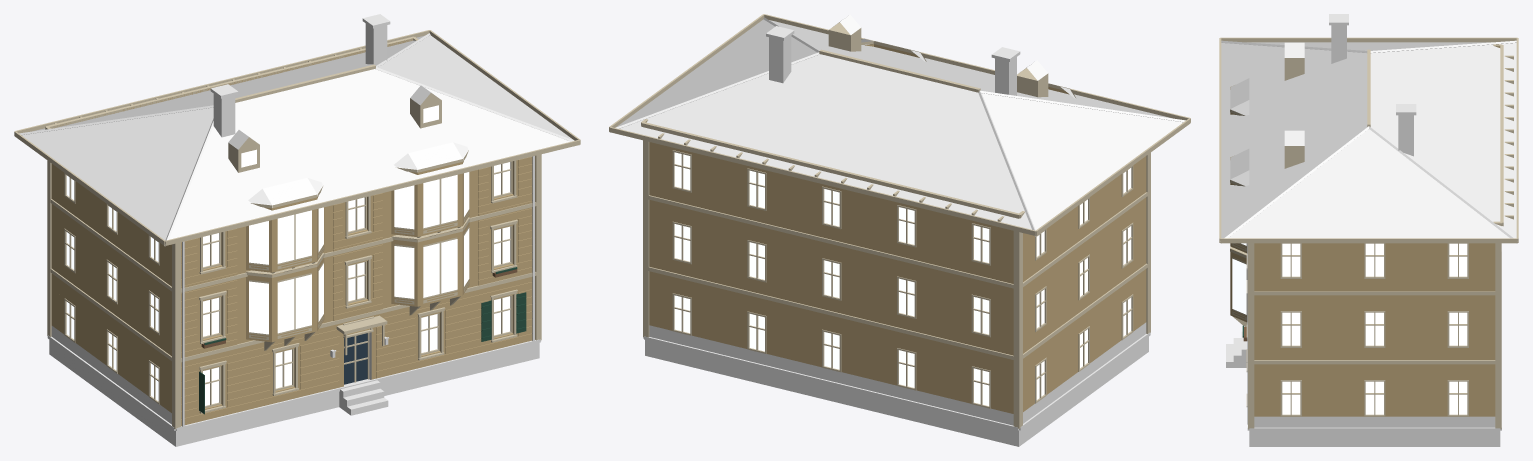
File: bld_yali_a.glb
The picture shows the model from 3 angles, left to right: view 1: azimuth 30°, elevation 25°; view 2: azimuth 150°, elevation 25°; view 3: azimuth 270°, elevation 25°; orthographic projection. The views are drawn at different scales.
Visible parts, largest first — view 1: LOD0; view 2: LOD0; view 3: LOD0.
Part boxes in pixels (box(x1,y1,x2,y2)): LOD0: box(14, 14, 580, 446); LOD0: box(609, 14, 1190, 446); LOD0: box(1219, 14, 1518, 446).
Size of what is drawn, in the model's own units: 21.3 by 14.7 by 13.38.
